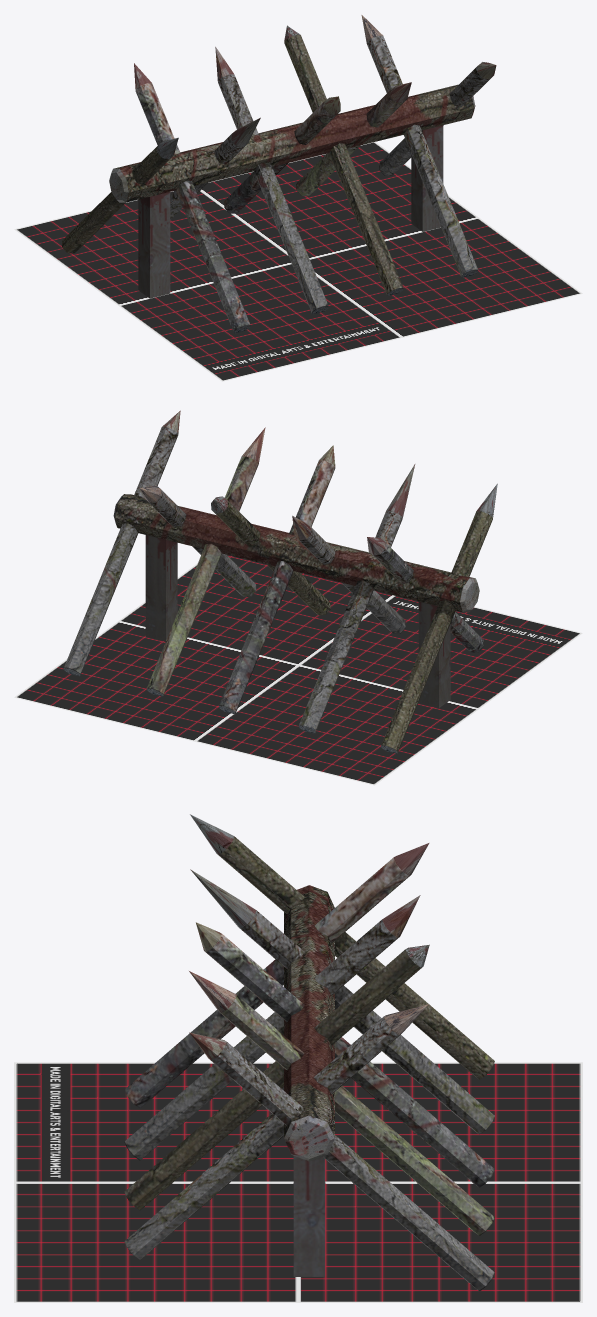
3 renders of one model, top to bottom at view 1: azimuth 30°, elevation 25°; view 2: azimuth 150°, elevation 25°; view 3: azimuth 270°, elevation 25°, orthographic. The views are drawn at different scales.
Visible parts, largest first — view 1: floor_grid, SM_Barricade_03 - Default_0; view 2: floor_grid, SM_Barricade_03 - Default_0; view 3: floor_grid, SM_Barricade_03 - Default_0.
Part boxes in pixels (x1,y1,x2,y2): floor_grid: (14,142,582,381); SM_Barricade_03 - Default_0: (62,15,496,333); floor_grid: (14,555,582,785); SM_Barricade_03 - Default_0: (63,410,497,753); floor_grid: (14,1062,582,1302); SM_Barricade_03 - Default_0: (124,814,494,1290).
Size of the model in its own units: 78.74 by 40.35 by 78.74.
